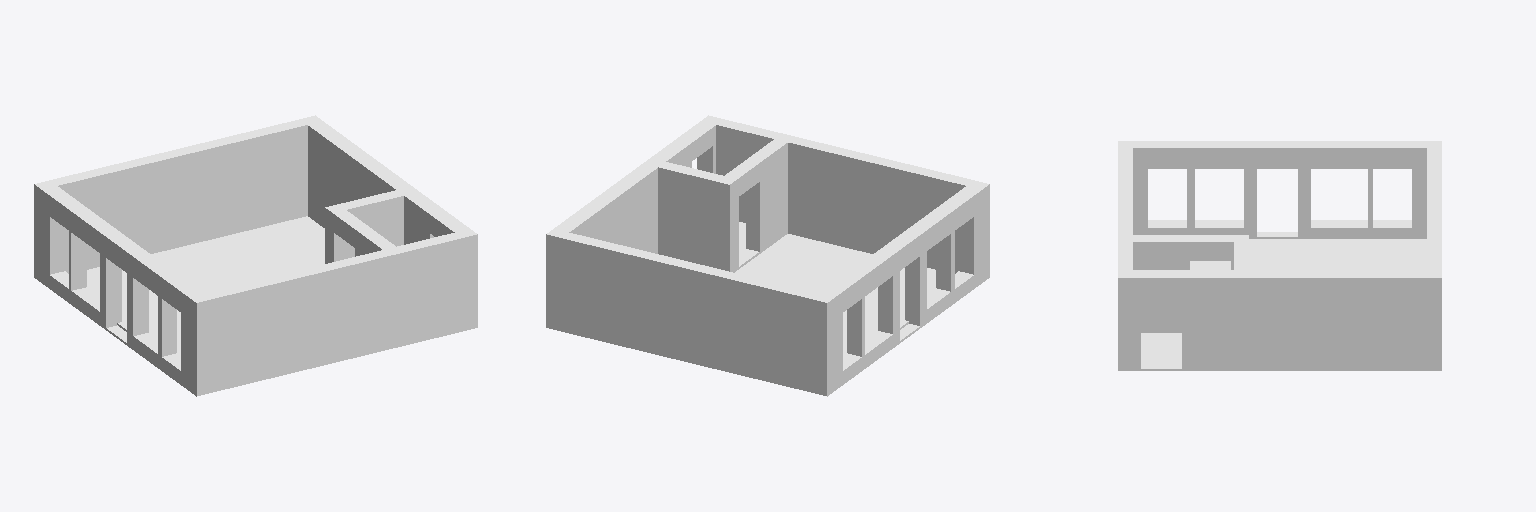
Rendered from building-mall.obj.
3 renders of one model, left to right at view 1: azimuth 30°, elevation 25°; view 2: azimuth 150°, elevation 25°; view 3: azimuth 270°, elevation 25°, orthographic.
Parts seen in each view (by area): view 1: building:mall; view 2: building:mall; view 3: building:mall.
Boxes of the visible parts, x1,y1,x2,y2 form: building:mall: [34, 115, 477, 396]; building:mall: [546, 115, 989, 396]; building:mall: [1118, 141, 1441, 370].
Size of the model in its own units: 126 by 40 by 126.